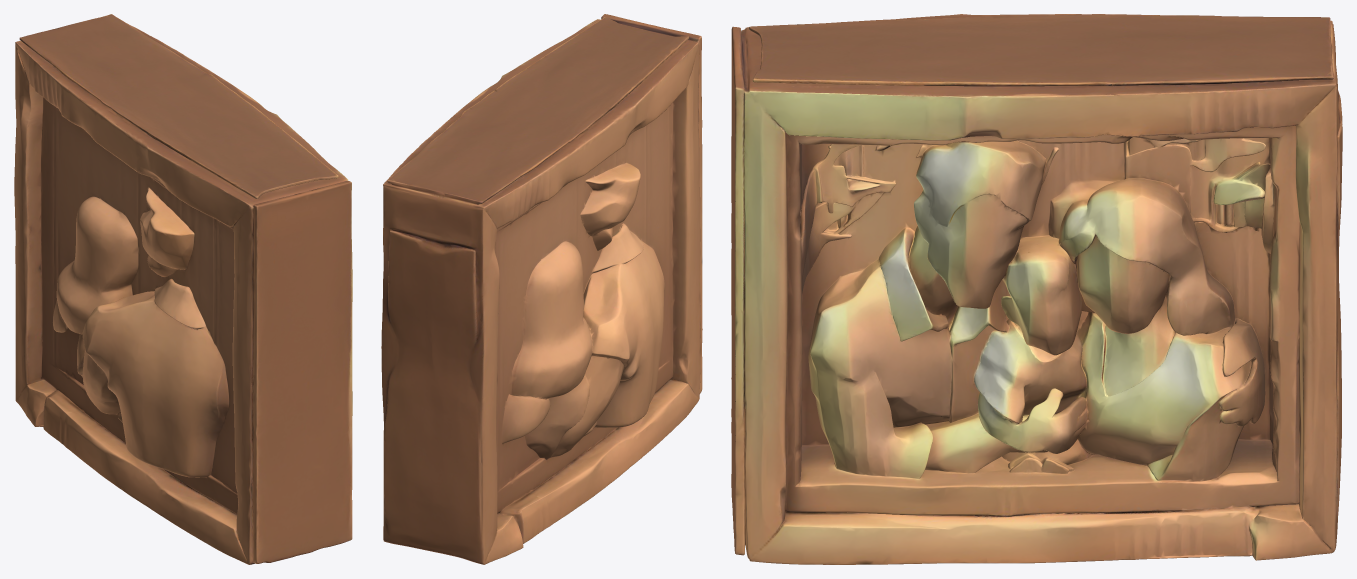
The model's file is foto 1.glb.
3 renders of one model, left to right at view 1: azimuth 30°, elevation 25°; view 2: azimuth 150°, elevation 25°; view 3: azimuth 270°, elevation 25°, orthographic. The views are drawn at different scales.
Parts seen in each view (by area): view 1: vizcom_node_0; view 2: vizcom_node_0; view 3: vizcom_node_0.
Boxes of the visible parts, <box> form: vizcom_node_0: <box>14,14,352,564</box>; vizcom_node_0: <box>381,14,702,564</box>; vizcom_node_0: <box>731,14,1342,564</box>.
Bounding box in the file's own units: 0.1367 × 0.3 × 0.3468.
Materials: 1 (1 with a texture image).
